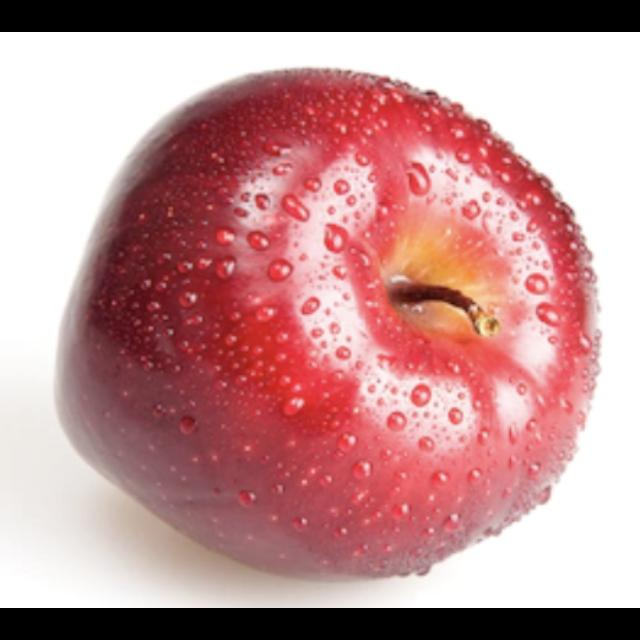Apel Segar: (51, 67, 604, 584)
